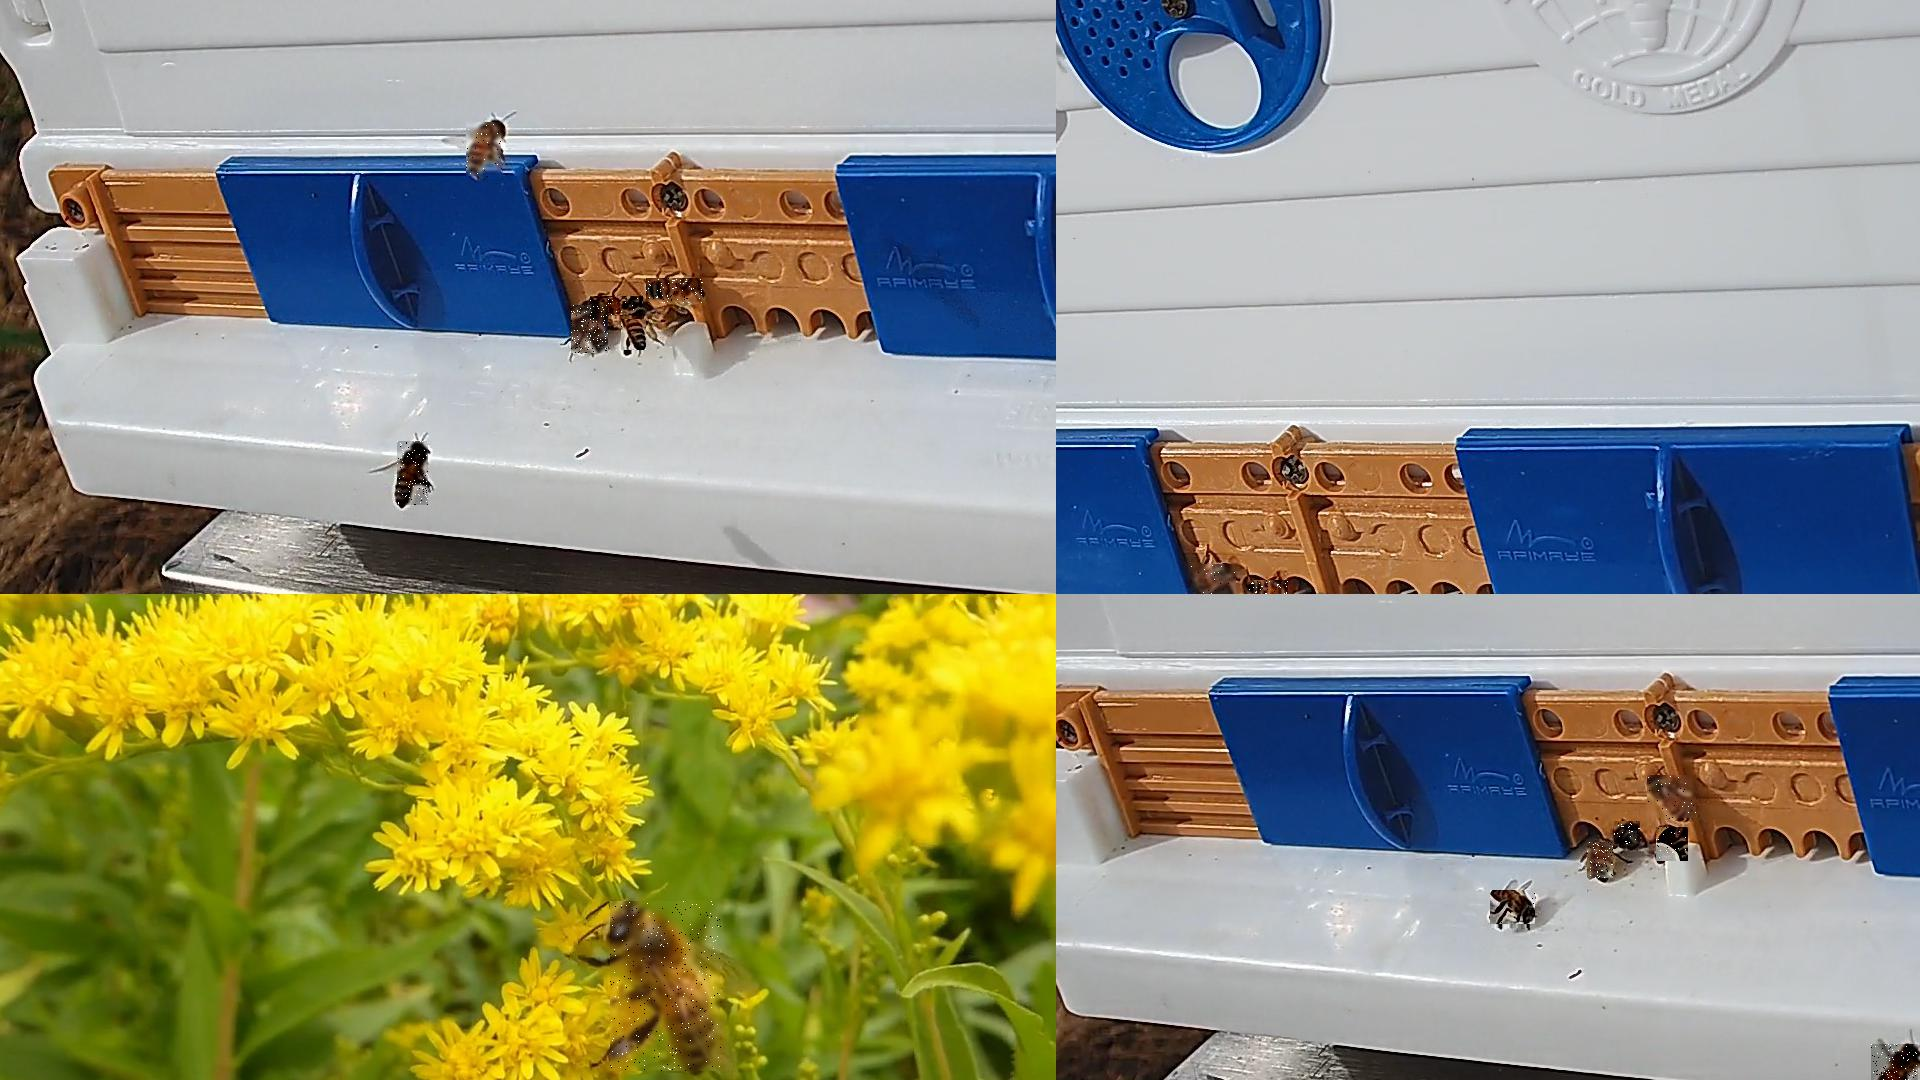bee: (611, 902, 723, 1072), (397, 440, 429, 506), (467, 123, 504, 178), (571, 305, 609, 355), (1490, 890, 1536, 928), (646, 280, 704, 305), (1188, 564, 1238, 593), (589, 297, 644, 320), (1656, 827, 1689, 862), (1588, 843, 1614, 880), (621, 320, 647, 355), (1614, 822, 1640, 845), (1244, 580, 1290, 593)
pollenbee: (1647, 775, 1697, 820), (1871, 1043, 1919, 1079)
